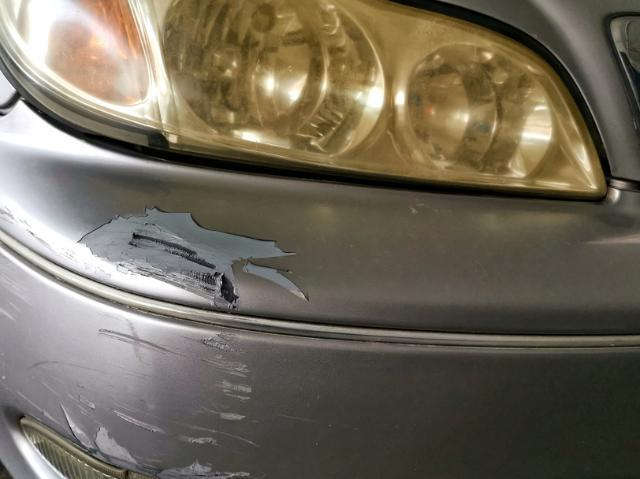Bumper: (0, 153, 435, 473)
